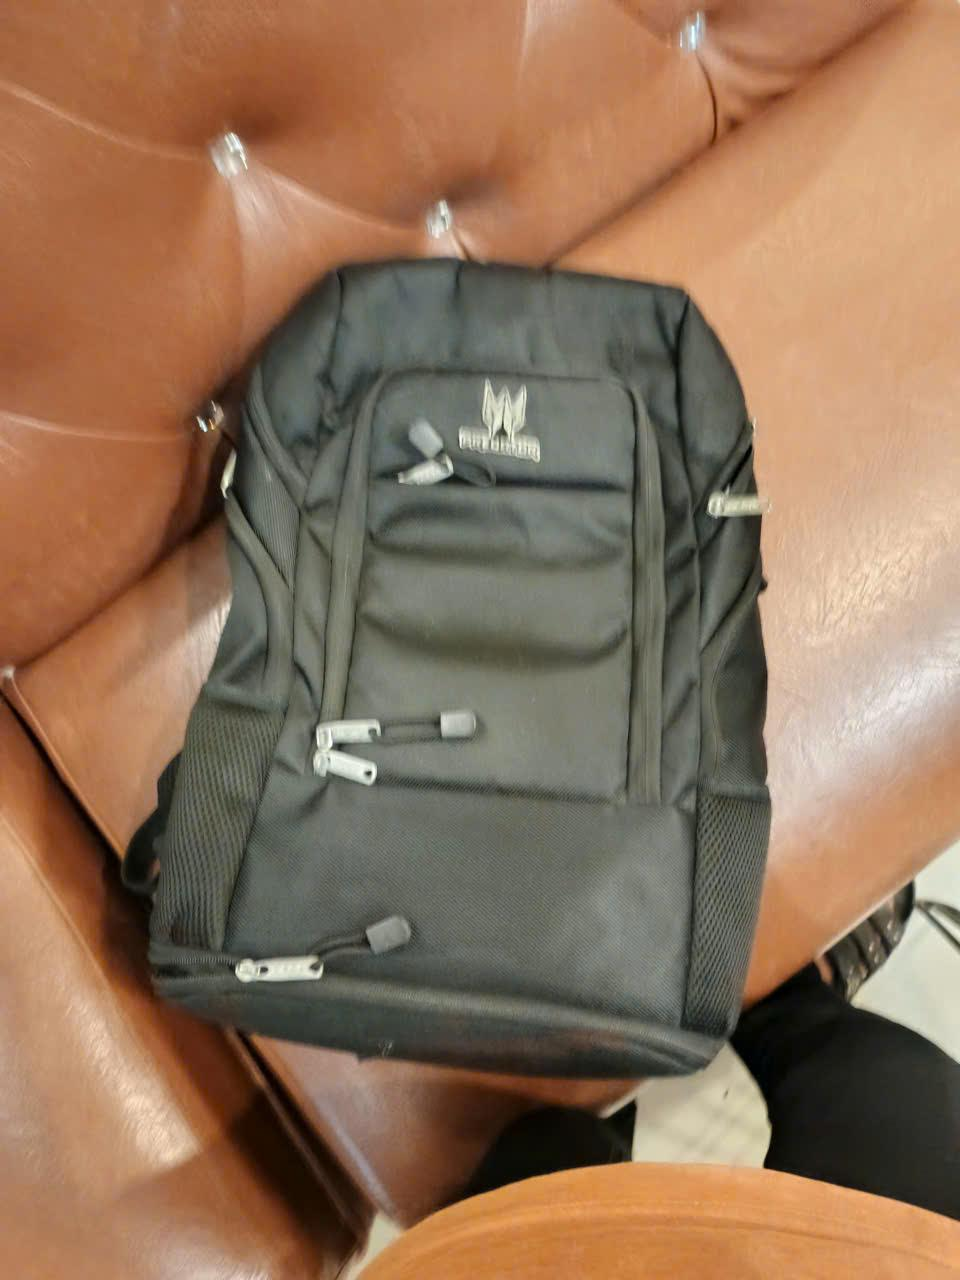Con lai: (150, 255, 764, 1083)
